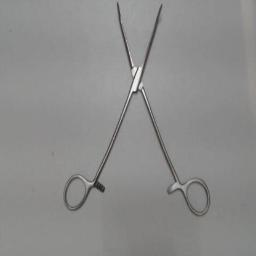Lahey Forceps: (60, 1, 212, 217)
